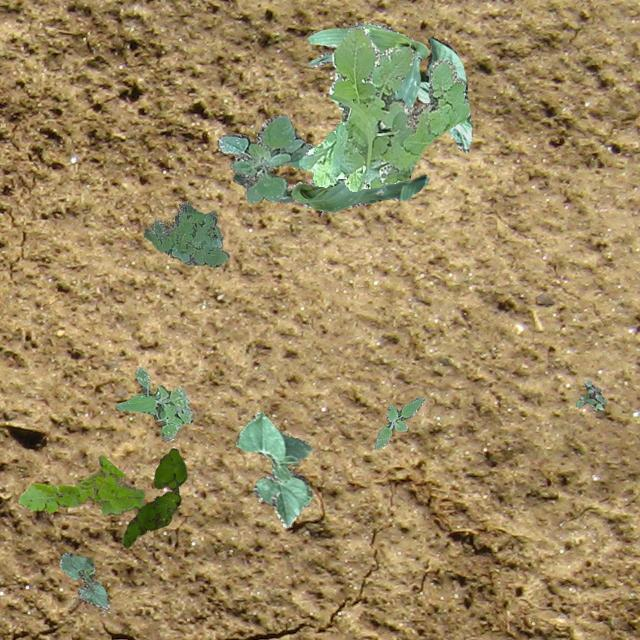crop: (306, 20, 428, 106), (234, 411, 312, 526), (232, 174, 428, 212), (416, 36, 472, 152), (59, 552, 108, 610)
weed: (297, 21, 468, 190), (216, 112, 314, 202), (18, 454, 144, 514), (121, 448, 186, 546), (116, 366, 192, 441), (142, 202, 228, 266), (372, 396, 422, 448), (574, 380, 606, 410)
